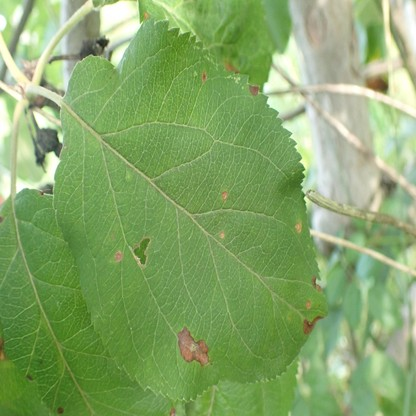frogeye: (176, 326, 210, 367), (132, 237, 152, 268), (301, 316, 326, 336), (311, 276, 324, 292), (248, 82, 262, 95), (225, 60, 238, 73), (0, 337, 5, 360), (293, 221, 302, 233), (116, 252, 122, 262), (306, 300, 312, 310), (56, 406, 63, 414), (202, 71, 207, 81), (170, 408, 176, 416), (220, 232, 225, 240), (223, 191, 227, 200), (144, 12, 149, 19)
